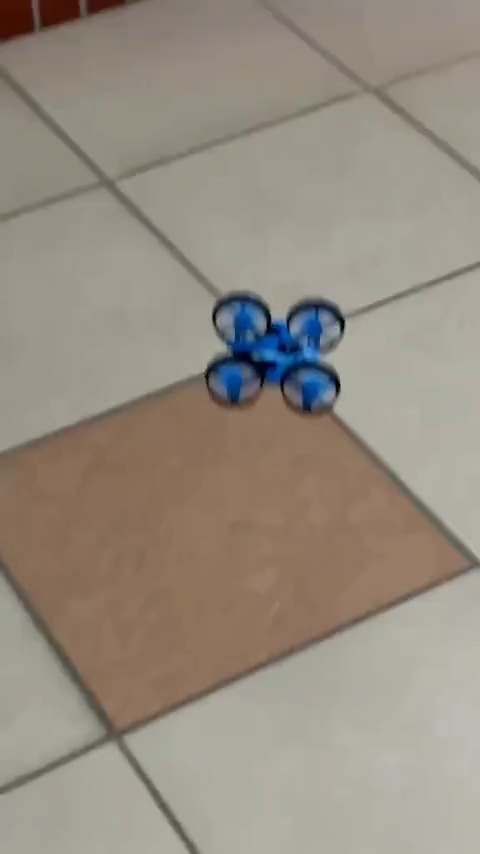drone: (203, 286, 352, 417)
